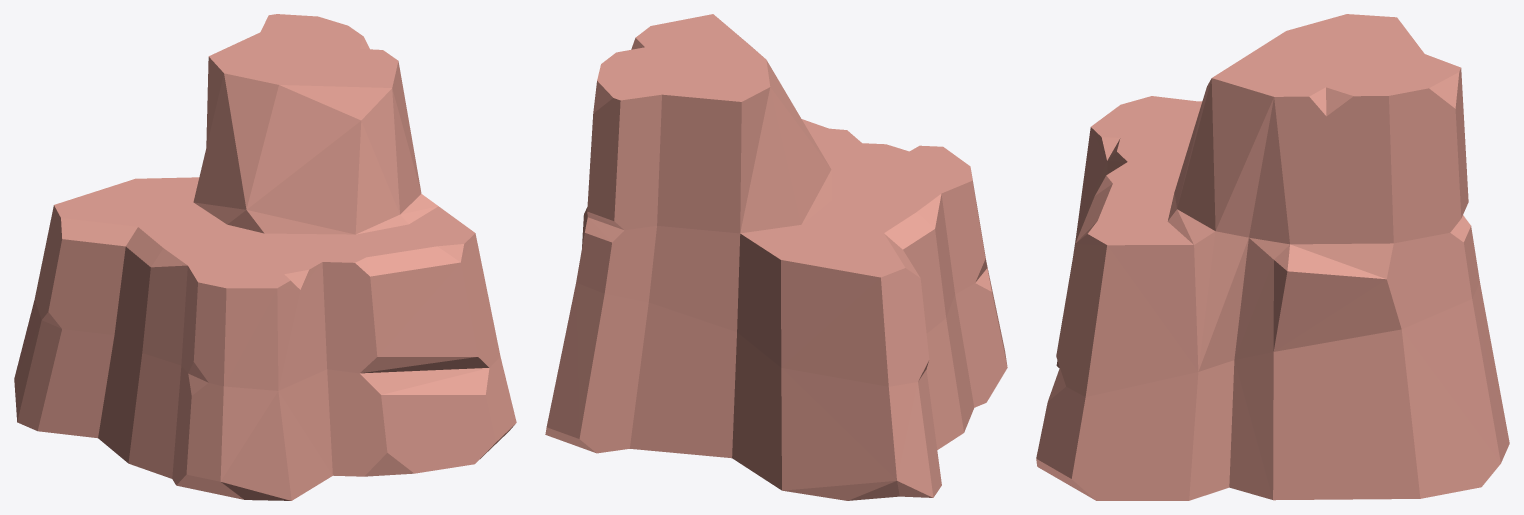
Rendered from Plane_036_Vlad.fbx.
3 renders of one model, left to right at view 1: azimuth 30°, elevation 25°; view 2: azimuth 150°, elevation 25°; view 3: azimuth 270°, elevation 25°, orthographic. The views are drawn at different scales.
Parts seen in each view (by area): view 1: Plane.036; view 2: Plane.036; view 3: Plane.036.
Boxes of the visible parts, left/top/right/bottom form: Plane.036: left=14, top=14, right=516, bottom=500; Plane.036: left=545, top=14, right=1007, bottom=500; Plane.036: left=1036, top=14, right=1509, bottom=500.
Size of the model in its own units: 868 by 749 by 838.
